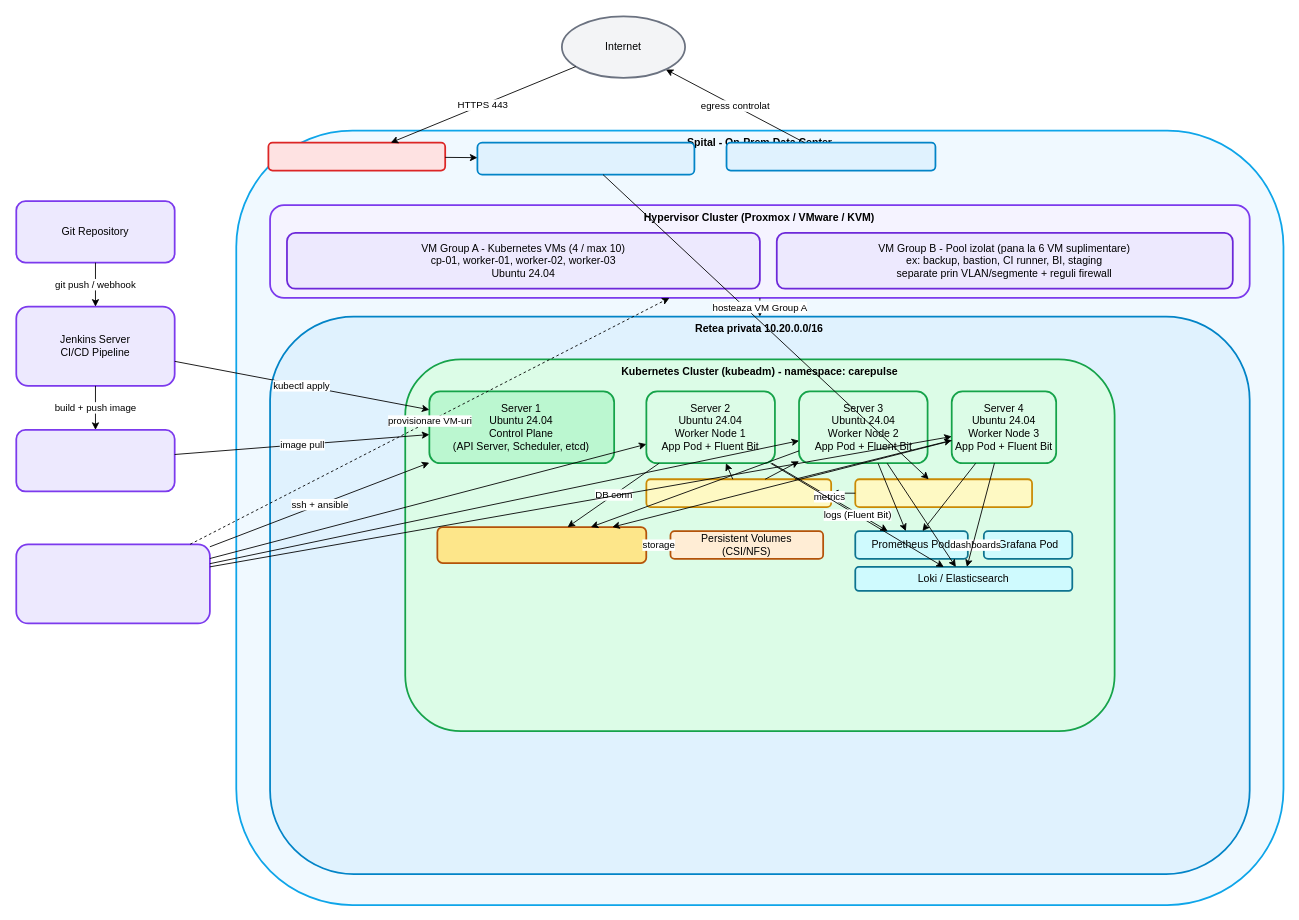
Image size: 1299x920. Some labels were removed from this diagram. Each missing label, with the box of its shape:
Ansible Control Node (Ubuntu 24.04): (15, 543, 210, 624)
Container Registry: (15, 429, 175, 492)
Firewall + ACL + IDS/IPS: (267, 141, 446, 171)
Ingress Controller Pod: (854, 478, 1033, 508)
Load Balancer / Ingress VIP (HAProxy/Nginx/MetalLB): (476, 141, 695, 175)
NAT Gateway / Proxy Egress: (725, 141, 936, 171)
PostgreSQL StatefulSet (Primary + Replica): (436, 526, 647, 563)
Service carepulse (ClusterIP): (645, 478, 832, 508)
